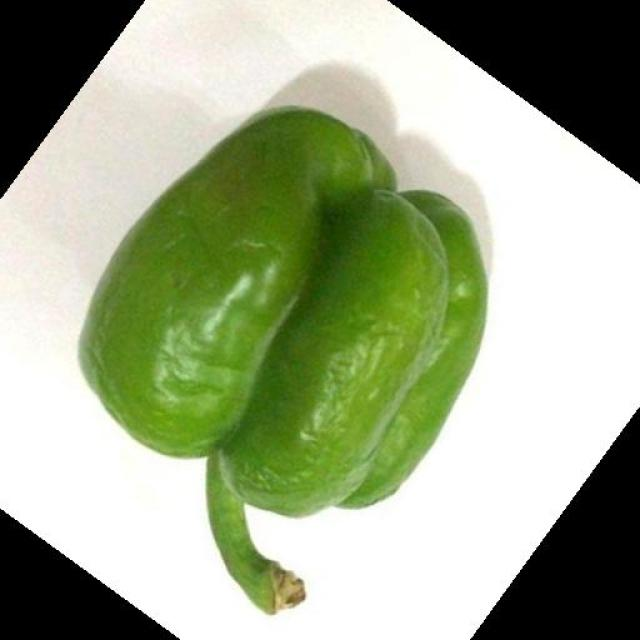Fresh_Capsicum: (85, 108, 497, 603)
